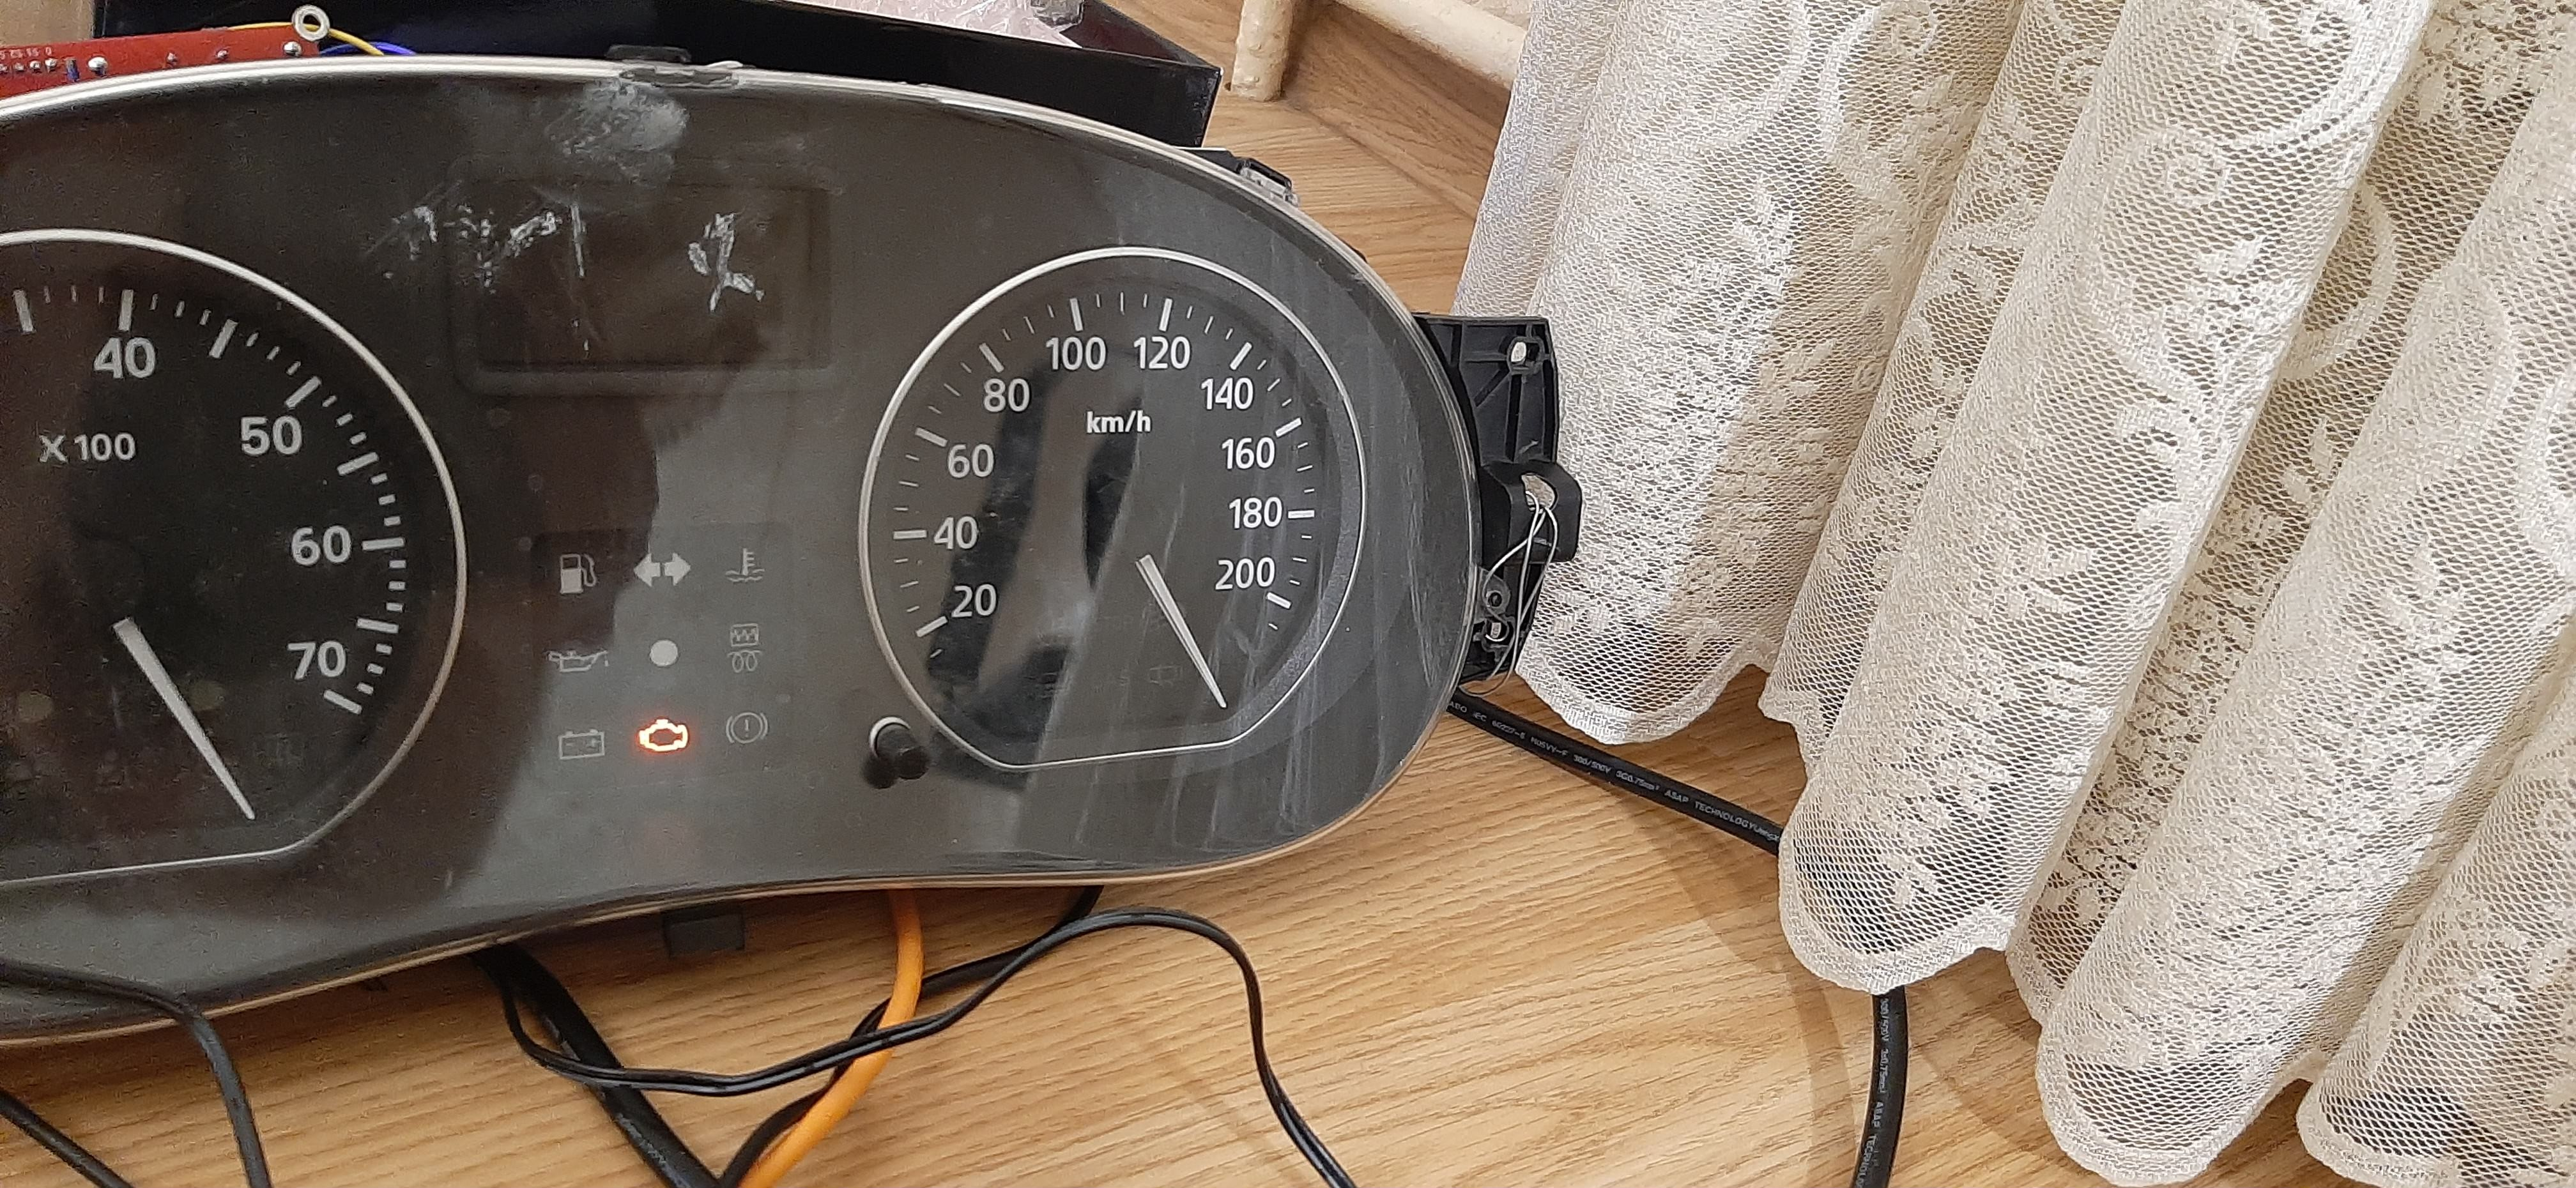engine20: (637, 716, 690, 754)
